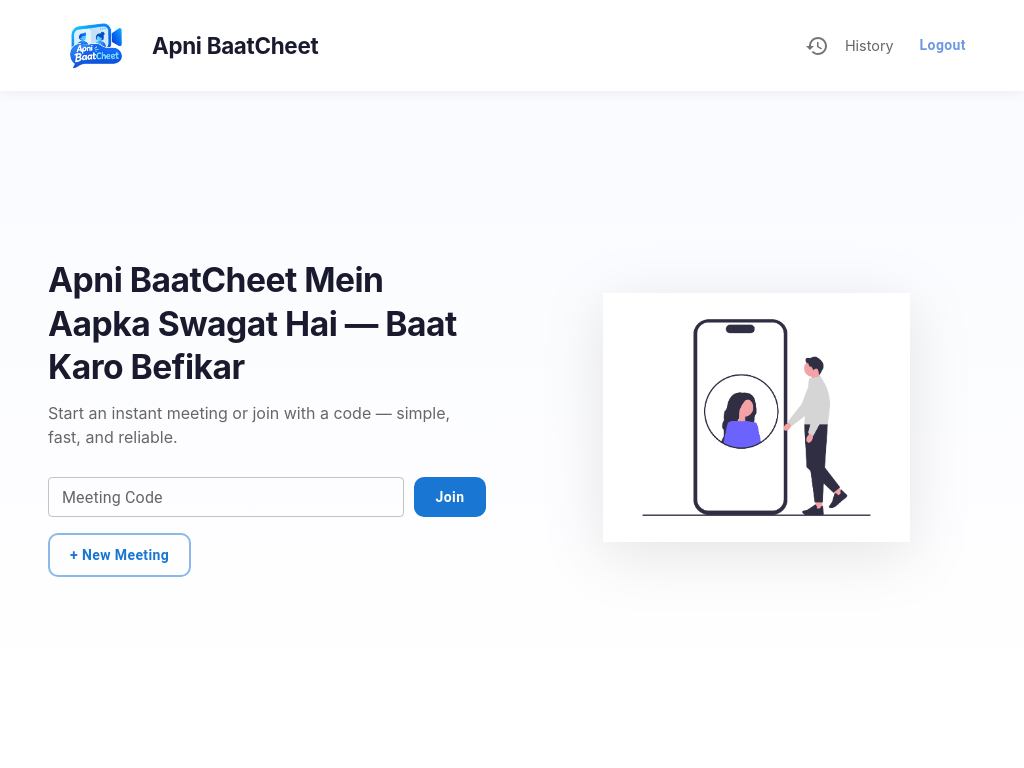
Test: HomeComponent › should show error when meeting code does not exist
The image size is (1024, 768).
Type "invalidcode" into the field labelled "Meeting Code". click: (226, 497)
box: [48,477,404,517]
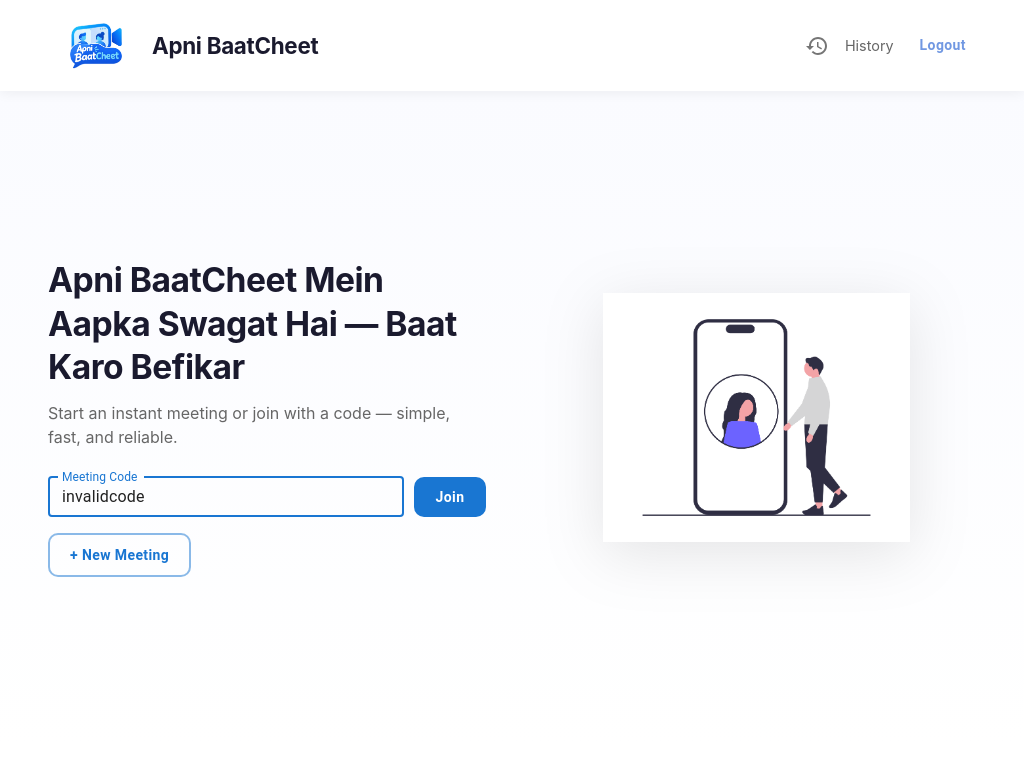
Click the button "Join". click: (450, 497)
box: [414,477,486,517]
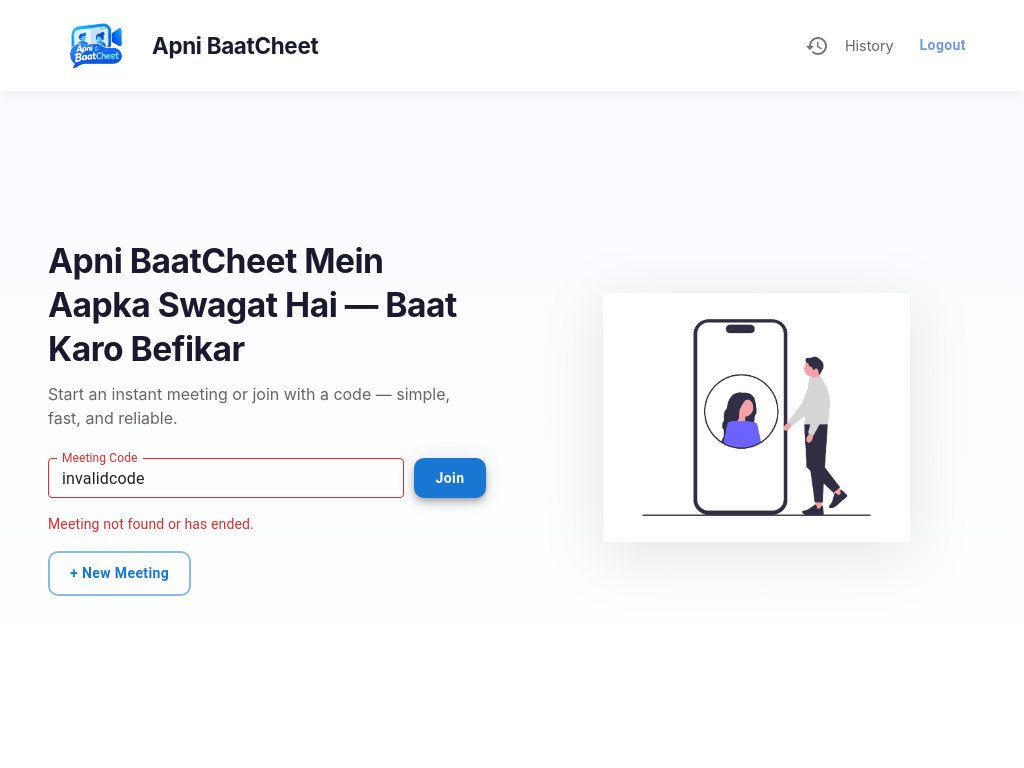
Expected: the text "Meeting not found or has ended." is shown, [48,516,254,532]
